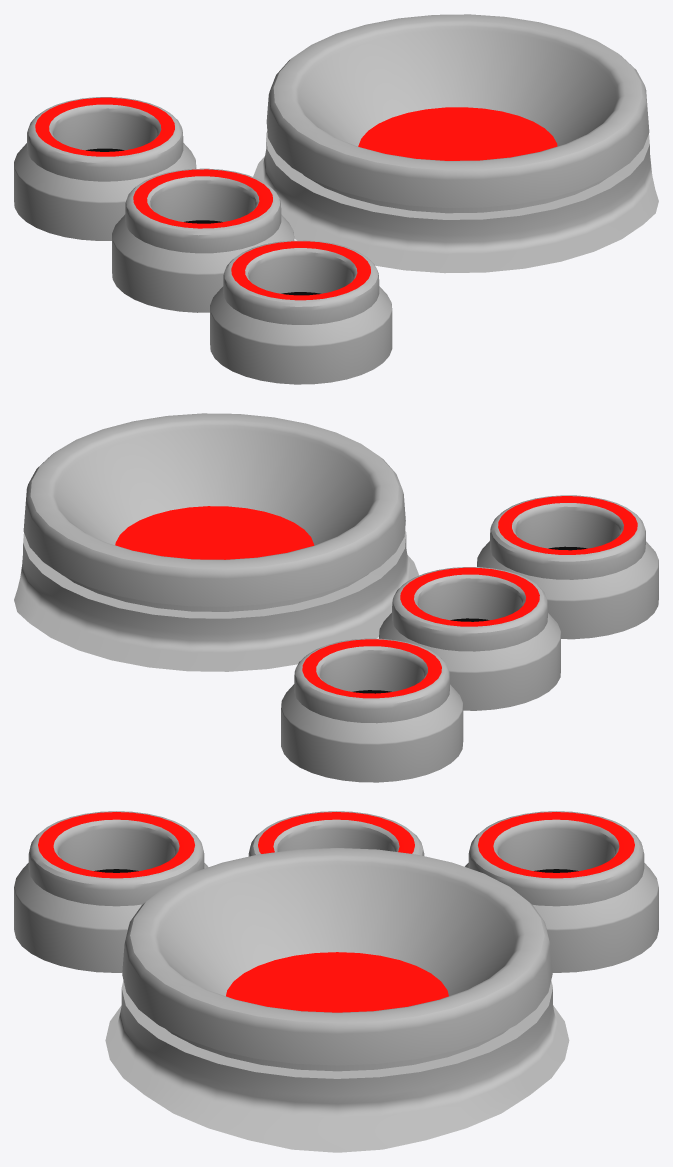
File: Tower_Parts_01.fbx
3 renders of one model, top to bottom at view 1: azimuth 30°, elevation 25°; view 2: azimuth 150°, elevation 25°; view 3: azimuth 270°, elevation 25°, orthographic. The views are drawn at different scales.
Parts seen in each view (by area): view 1: Tower_Parts; view 2: Tower_Parts; view 3: Tower_Parts.
Boxes of the visible parts, box(x1,y1,x2,y2) form: Tower_Parts: box(14, 14, 658, 384); Tower_Parts: box(14, 413, 658, 782); Tower_Parts: box(14, 811, 658, 1152).
Bounding box in the file's own units: 84.63 × 19.44 × 83.97.
